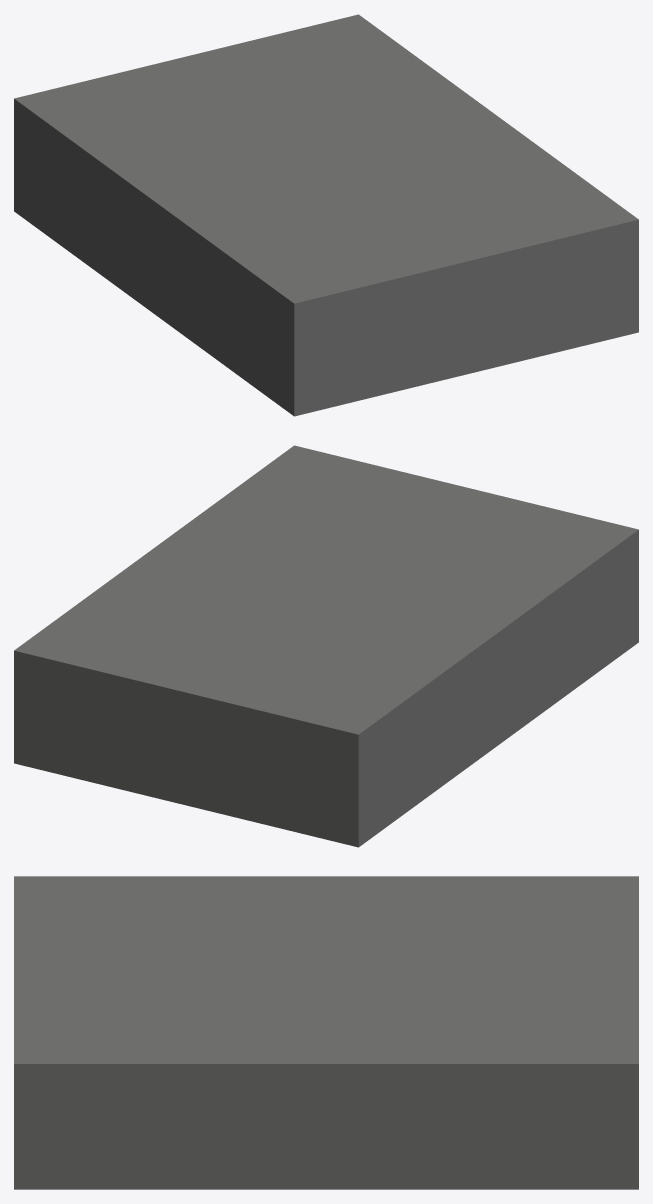
Rendered from M_AnimalHelpers01.FBX.
3 views of the same model, one above another, from view 1: azimuth 30°, elevation 25°; view 2: azimuth 150°, elevation 25°; view 3: azimuth 270°, elevation 25° (orthographic). The views are drawn at different scales.
Visible parts, largest first — view 1: M_animalhelpers01_03; view 2: M_animalhelpers01_03; view 3: M_animalhelpers01_03.
Part boxes in pixels (<box>): M_animalhelpers01_03: <box>14,14,638,416</box>; M_animalhelpers01_03: <box>14,445,638,847</box>; M_animalhelpers01_03: <box>14,876,638,1189</box>.
Bounding box in the file's own units: 13.27 × 4.15 × 18.68.
